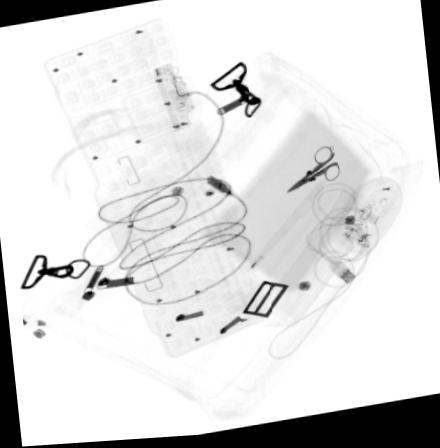Scissors: (284, 150, 341, 197)
